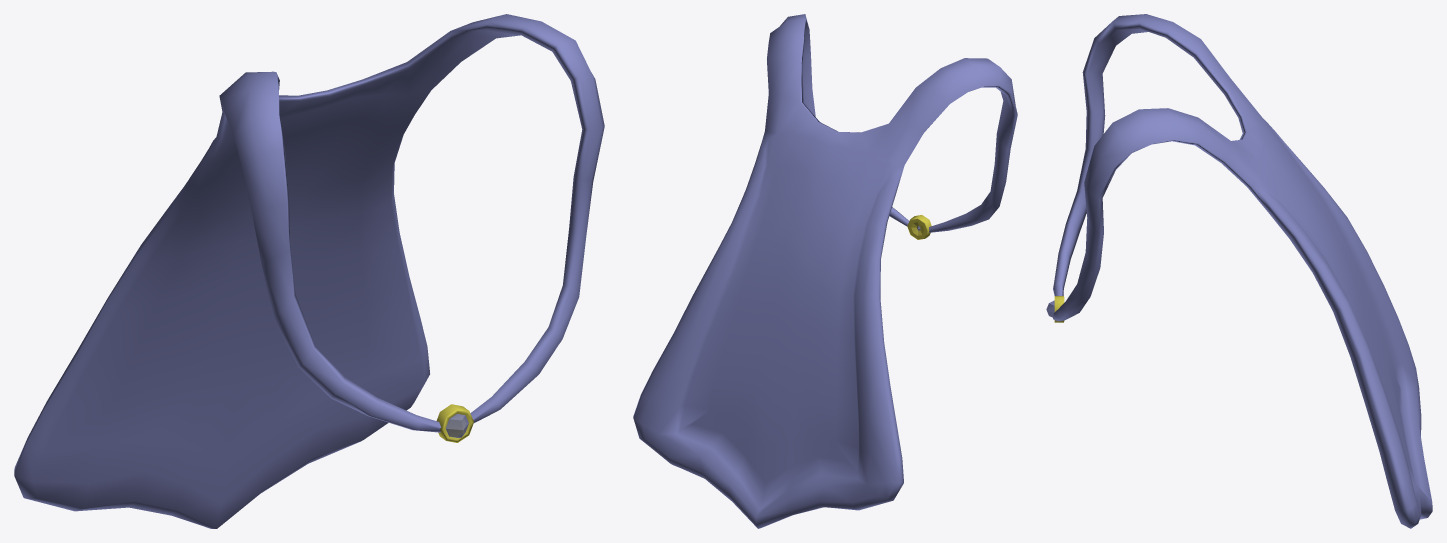
Rendered from Cape.fbx.
3 views of the same model, side by side, from view 1: azimuth 30°, elevation 25°; view 2: azimuth 150°, elevation 25°; view 3: azimuth 270°, elevation 25° (orthographic). The views are drawn at different scales.
Parts seen in each view (by area): view 1: mCape, mGold; view 2: mCape, mGold; view 3: mCape.
Part boxes in pixels (x1,y1,x2,y2): mCape: (14,14,604,528); mGold: (436,404,473,442); mCape: (633,14,1017,528); mGold: (907,215,931,239); mCape: (1053,14,1432,528).
Bounding box in the file's own units: 99.34 × 140 × 108.
